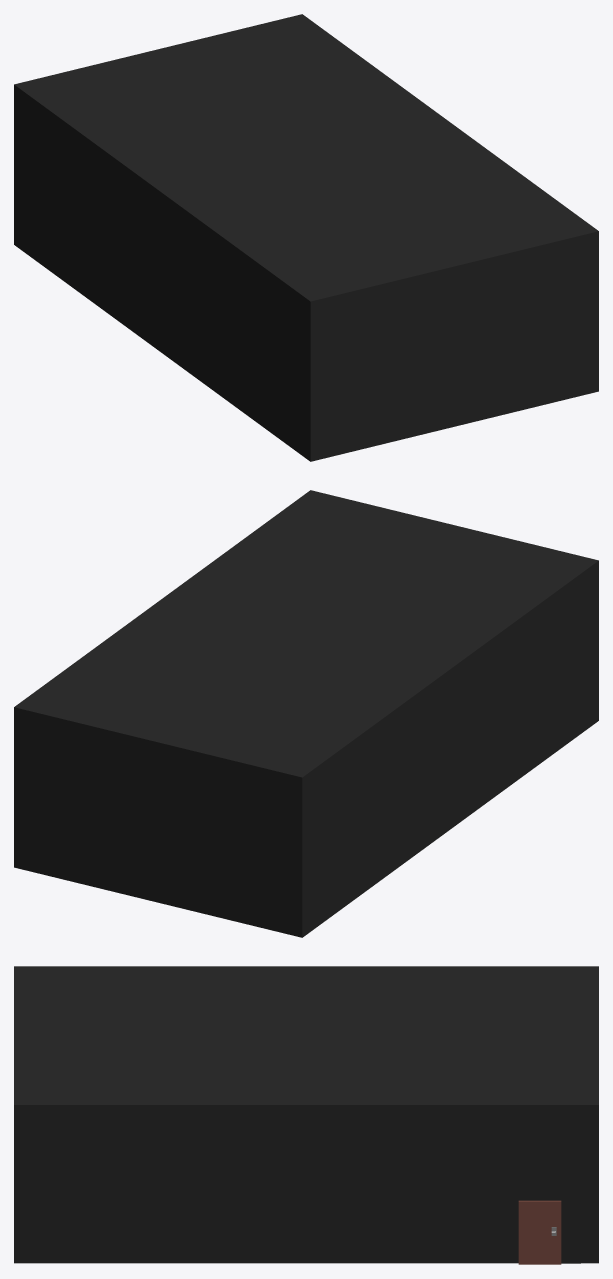
File: Salones.fbx
3 views of the same model, one above another, from view 1: azimuth 30°, elevation 25°; view 2: azimuth 150°, elevation 25°; view 3: azimuth 270°, elevation 25° (orthographic).
Visible parts, largest first — view 1: SalonOut; view 2: SalonOut; view 3: SalonOut, Puerta.
Part boxes in pixels (box(x1,y1,x2,y2)): SalonOut: box(14, 14, 598, 461); SalonOut: box(14, 490, 598, 937); SalonOut: box(14, 966, 598, 1263); Puerta: box(518, 1200, 561, 1264).
Bounding box in the file's own units: 373 × 194 × 652.
